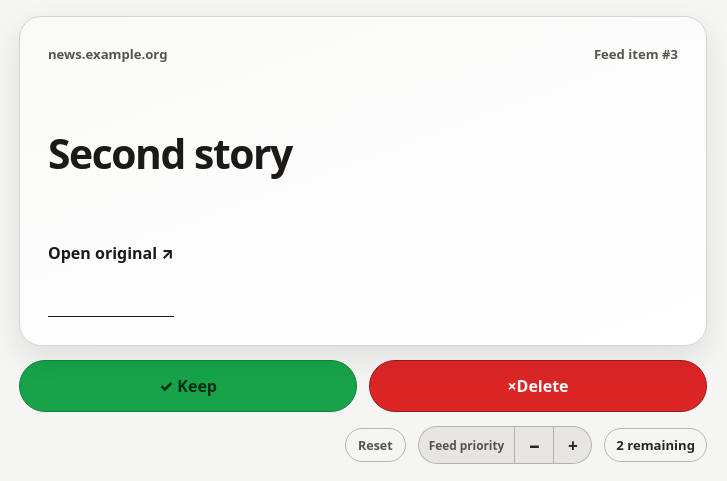
Scenario: ReaderPage › shows review items in the selected order
Expected: the heading "Second story" is shown, [48,125,292,181]
Click the button "✓ Keep" at (188, 386), box [19,360,357,412]
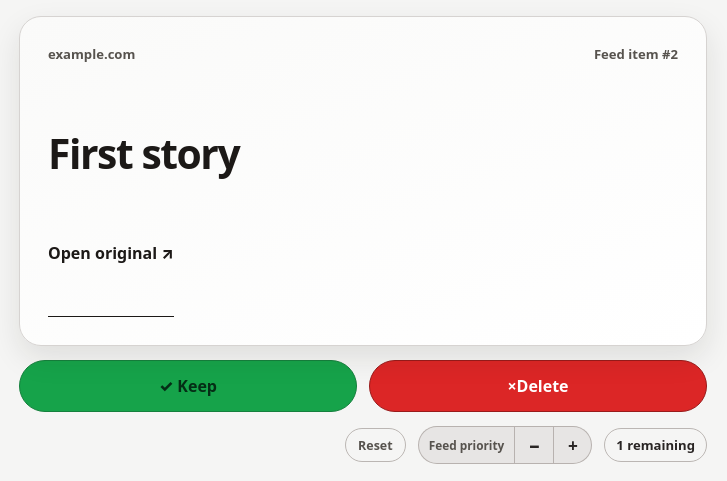
Result: the heading "First story" is shown at [48,125,239,181]
